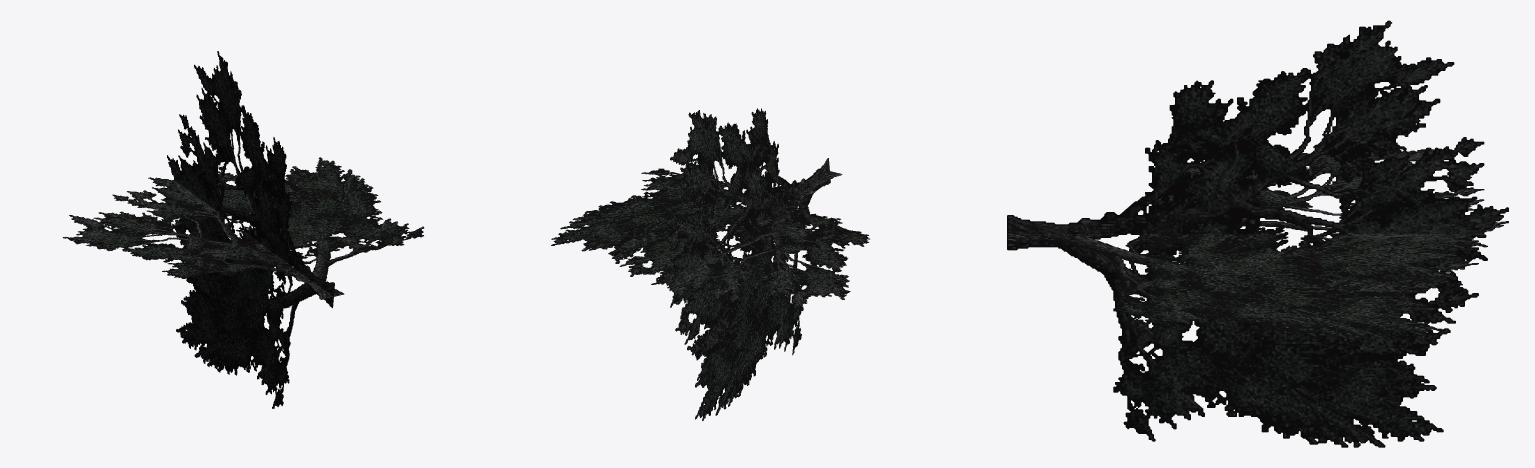
Rendered from SM_EC_Tree_Cross_09.fbx.
The picture shows the model from 3 angles, left to right: view 1: azimuth 30°, elevation 25°; view 2: azimuth 150°, elevation 25°; view 3: azimuth 270°, elevation 25°; orthographic projection. The views are drawn at different scales.
Parts seen in each view (by area): view 1: SM_EC_Tree_Cross_09; view 2: SM_EC_Tree_Cross_09; view 3: SM_EC_Tree_Cross_09.
Part boxes in pixels (x1,y1,x2,y2): SM_EC_Tree_Cross_09: (63, 51, 424, 408); SM_EC_Tree_Cross_09: (551, 108, 869, 420); SM_EC_Tree_Cross_09: (1007, 20, 1508, 447).
Size of the model in its own units: 4.49 by 4.54 by 4.47.
